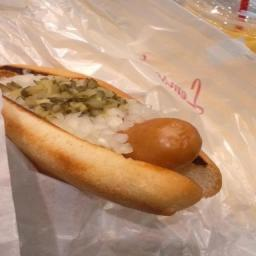hotdog: (115, 116, 216, 168)
